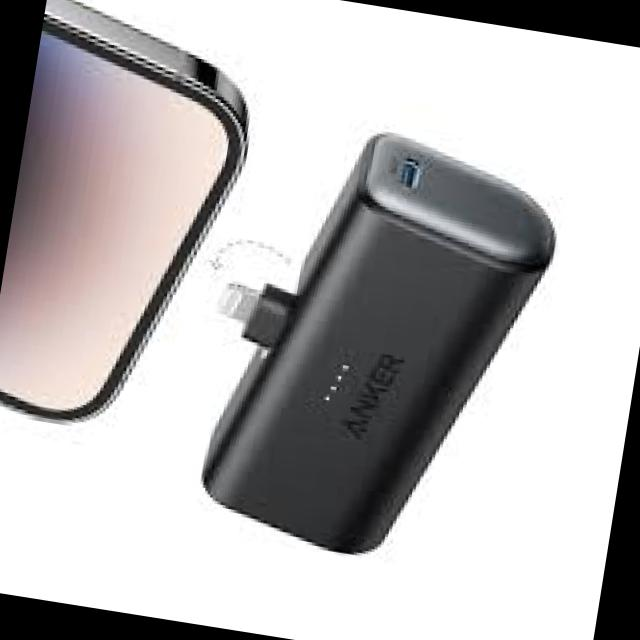power_bank: (172, 108, 570, 581)
